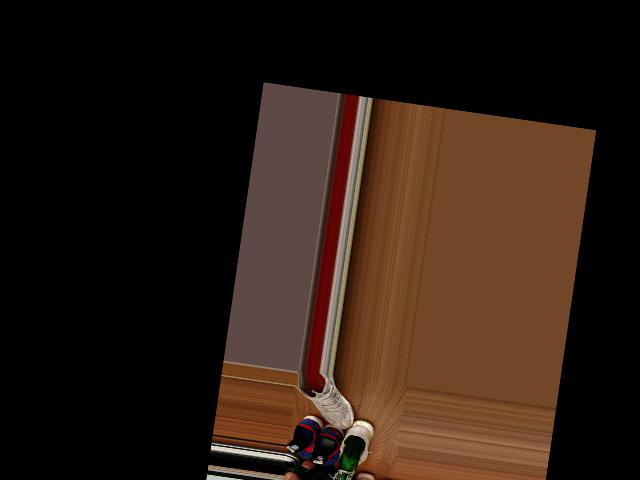beer: (334, 433, 366, 480)
